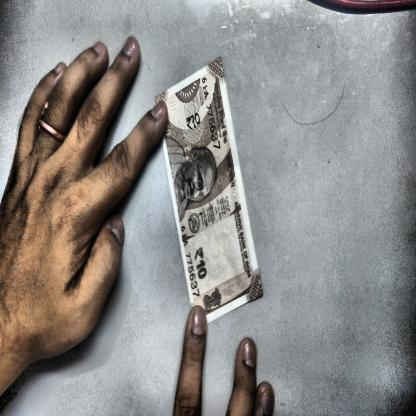Rs10: (192, 240, 210, 286)
